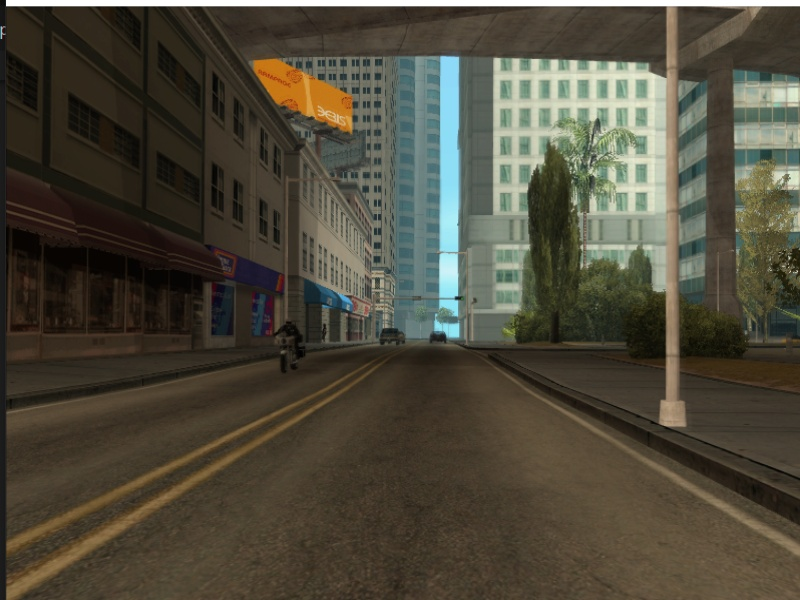pole: (654, 7, 695, 429), (461, 250, 474, 344), (370, 294, 378, 343)
vehicle: (272, 316, 309, 375), (378, 328, 402, 344), (428, 329, 448, 346)
